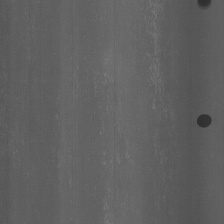oil_spot: (194, 108, 215, 135), (194, 0, 214, 15)
